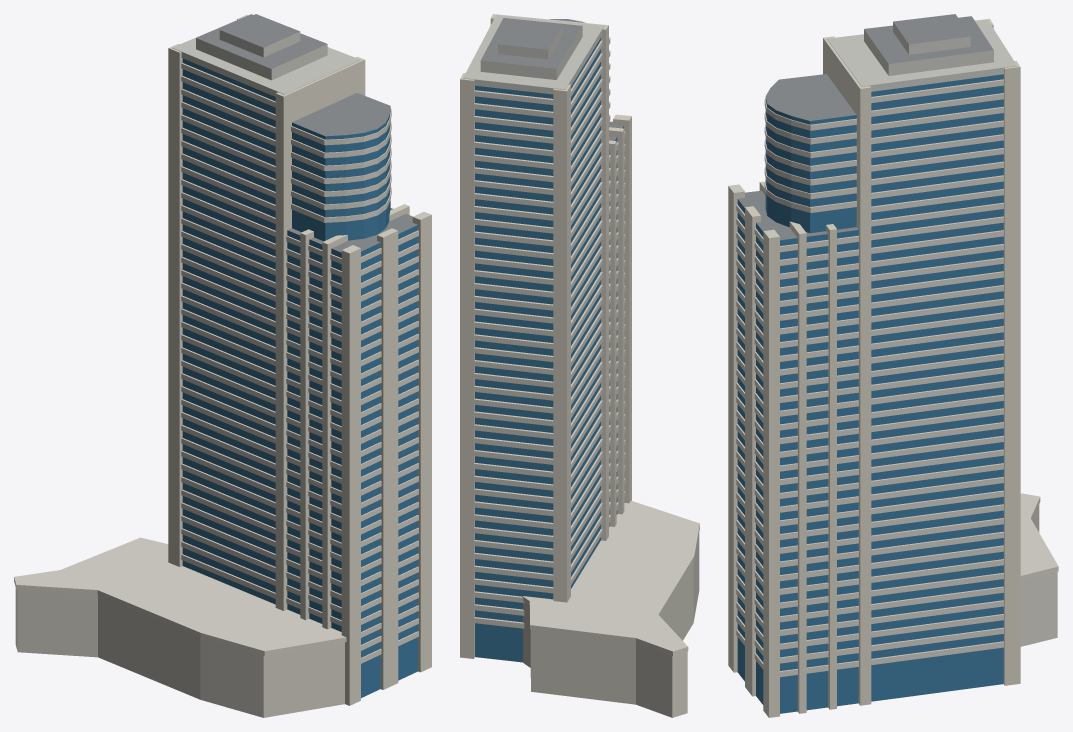
Rendered from sky_tower.glb.
The picture shows the model from 3 angles, left to right: view 1: azimuth 30°, elevation 25°; view 2: azimuth 150°, elevation 25°; view 3: azimuth 270°, elevation 25°; orthographic projection. The views are drawn at different scales.
Visible parts, largest first — view 1: SkyTower; view 2: SkyTower; view 3: SkyTower.
Boxes of the visible parts, x1=… form: SkyTower: x1=14, y1=14, x2=431, y2=717; SkyTower: x1=460, y1=14, x2=699, y2=717; SkyTower: x1=728, y1=14, x2=1058, y2=717.
Size of the model in its own units: 79.14 by 154 by 72.1.
